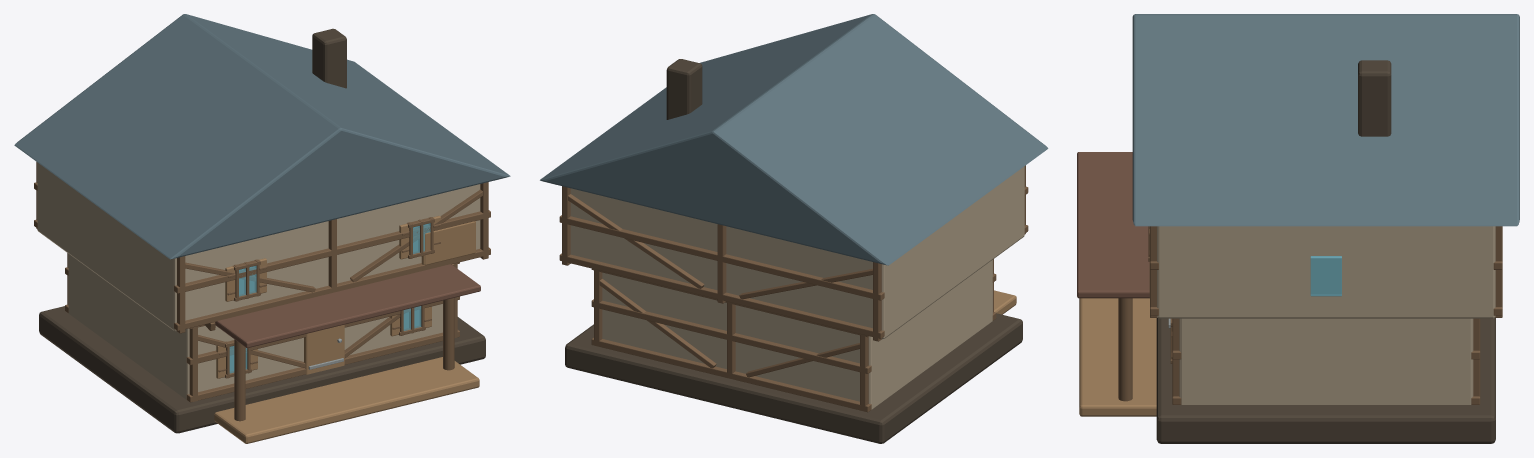
Rendered from tavern.glb.
3 renders of one model, left to right at view 1: azimuth 30°, elevation 25°; view 2: azimuth 150°, elevation 25°; view 3: azimuth 270°, elevation 25°, orthographic. The views are drawn at different scales.
Visible parts, largest first — view 1: Roof, OverhangingUpperFloor, GroundFloor, StoneFoundation, TavernPorch, TavernCanopy, TimberBeam.006, TimberBeam.008, TimberBeam, Chimney, TavernSign, INTERACT_Door (+10 smaller); view 2: Roof, OverhangingUpperFloor, GroundFloor, StoneFoundation, TimberBeam.007, TimberBeam.009, TimberBeam.001, TimberBeam.003, Chimney, DiagonalBrace.007, DiagonalBrace.003, DiagonalBrace.005 (+8 smaller); view 3: Roof, OverhangingUpperFloor, GroundFloor, StoneFoundation, TavernCanopy, TavernPorch, Chimney, PorchPost.001, WindowGlass.005, TimberPost.011, TimberPost.005, TimberPost.004 (+1 smaller).
Part boxes in pixels (x1,y1,x2,y2): Roof: [14, 14, 510, 259]; OverhangingUpperFloor: [37, 162, 480, 331]; GroundFloor: [68, 254, 442, 399]; StoneFoundation: [39, 306, 485, 433]; TavernPorch: [214, 357, 479, 443]; TavernCanopy: [215, 264, 480, 348]; TimberBeam.006: [174, 247, 490, 330]; TimberBeam.008: [174, 210, 490, 293]; TimberBeam: [186, 330, 459, 402]; Chimney: [312, 28, 346, 88]; TavernSign: [421, 221, 475, 265]; INTERACT_Door: [304, 324, 344, 374]; Roof: [540, 14, 1048, 265]; OverhangingUpperFloor: [570, 166, 1024, 339]; GroundFloor: [602, 260, 992, 409]; StoneFoundation: [565, 313, 1022, 443]; TimberBeam.007: [559, 253, 884, 338]; TimberBeam.009: [559, 215, 884, 300]; TimberBeam.001: [591, 337, 871, 412]; TimberBeam.003: [591, 299, 871, 373]; Chimney: [666, 59, 702, 119]; DiagonalBrace.007: [568, 194, 704, 288]; DiagonalBrace.003: [599, 279, 716, 368]; DiagonalBrace.005: [739, 269, 872, 299]; Roof: [1132, 14, 1519, 226]; OverhangingUpperFloor: [1157, 226, 1495, 318]; GroundFloor: [1179, 318, 1473, 404]; StoneFoundation: [1156, 318, 1495, 443]; TavernCanopy: [1077, 152, 1149, 298]; TavernPorch: [1079, 298, 1156, 416]; Chimney: [1358, 60, 1391, 136]; PorchPost.001: [1118, 298, 1132, 401]; WindowGlass.005: [1310, 256, 1341, 296]; TimberPost.011: [1495, 226, 1502, 317]; TimberPost.005: [1473, 318, 1480, 396]; TimberPost.004: [1172, 318, 1179, 396].
Size of the model in its own units: 10.45 by 8.1 by 9.6.
